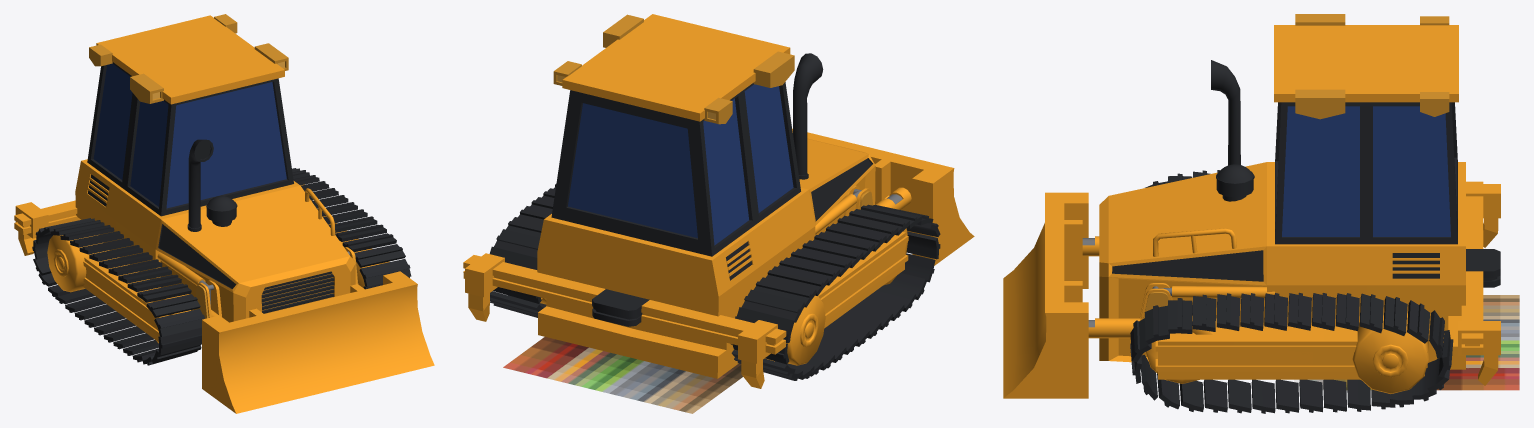
The model's file is Buldozer_1.fbx.
The picture shows the model from 3 angles, left to right: view 1: azimuth 30°, elevation 25°; view 2: azimuth 150°, elevation 25°; view 3: azimuth 270°, elevation 25°; orthographic projection. The views are drawn at different scales.
Parts seen in each view (by area): view 1: Buldozer_1, BuldozerDigger_1; view 2: Buldozer_1, BuldozerDigger_1; view 3: Buldozer_1, BuldozerDigger_1.
Part boxes in pixels (x1,y1,x2,y2): Buldozer_1: (14,14,411,365); BuldozerDigger_1: (202,271,434,413); Buldozer_1: (463,14,940,413); BuldozerDigger_1: (792,128,974,265); Buldozer_1: (1082,14,1519,413); BuldozerDigger_1: (1003,192,1088,398).
Size of the model in its own units: 329 by 279 by 458.
